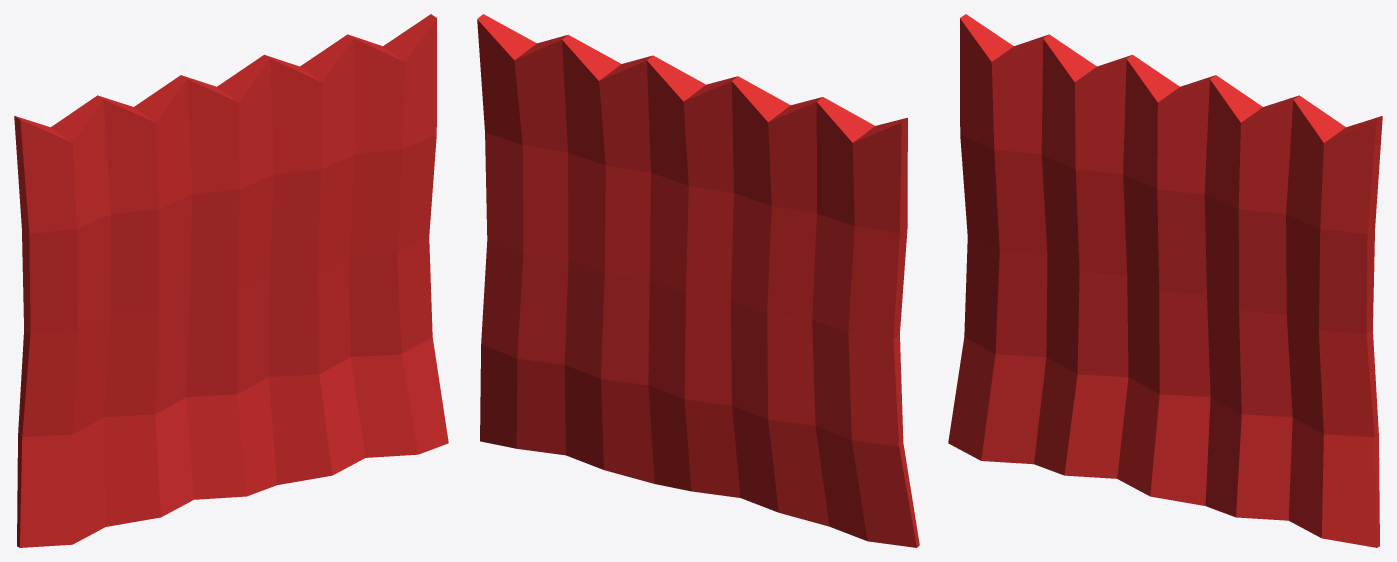
File: curtain.glb
3 renders of one model, left to right at view 1: azimuth 30°, elevation 25°; view 2: azimuth 150°, elevation 25°; view 3: azimuth 330°, elevation 25°, orthographic.
Parts seen in each view (by area): view 1: Simple Curtains (Closed); view 2: Simple Curtains (Closed); view 3: Simple Curtains (Closed).
Boxes of the visible parts, bbox=[...] form: Simple Curtains (Closed): bbox=[14, 14, 448, 547]; Simple Curtains (Closed): bbox=[477, 14, 919, 547]; Simple Curtains (Closed): bbox=[948, 14, 1382, 547].
Bounding box in the file's own units: 1.78 × 1.68 × 0.2154.
1 material, 1 textured.
